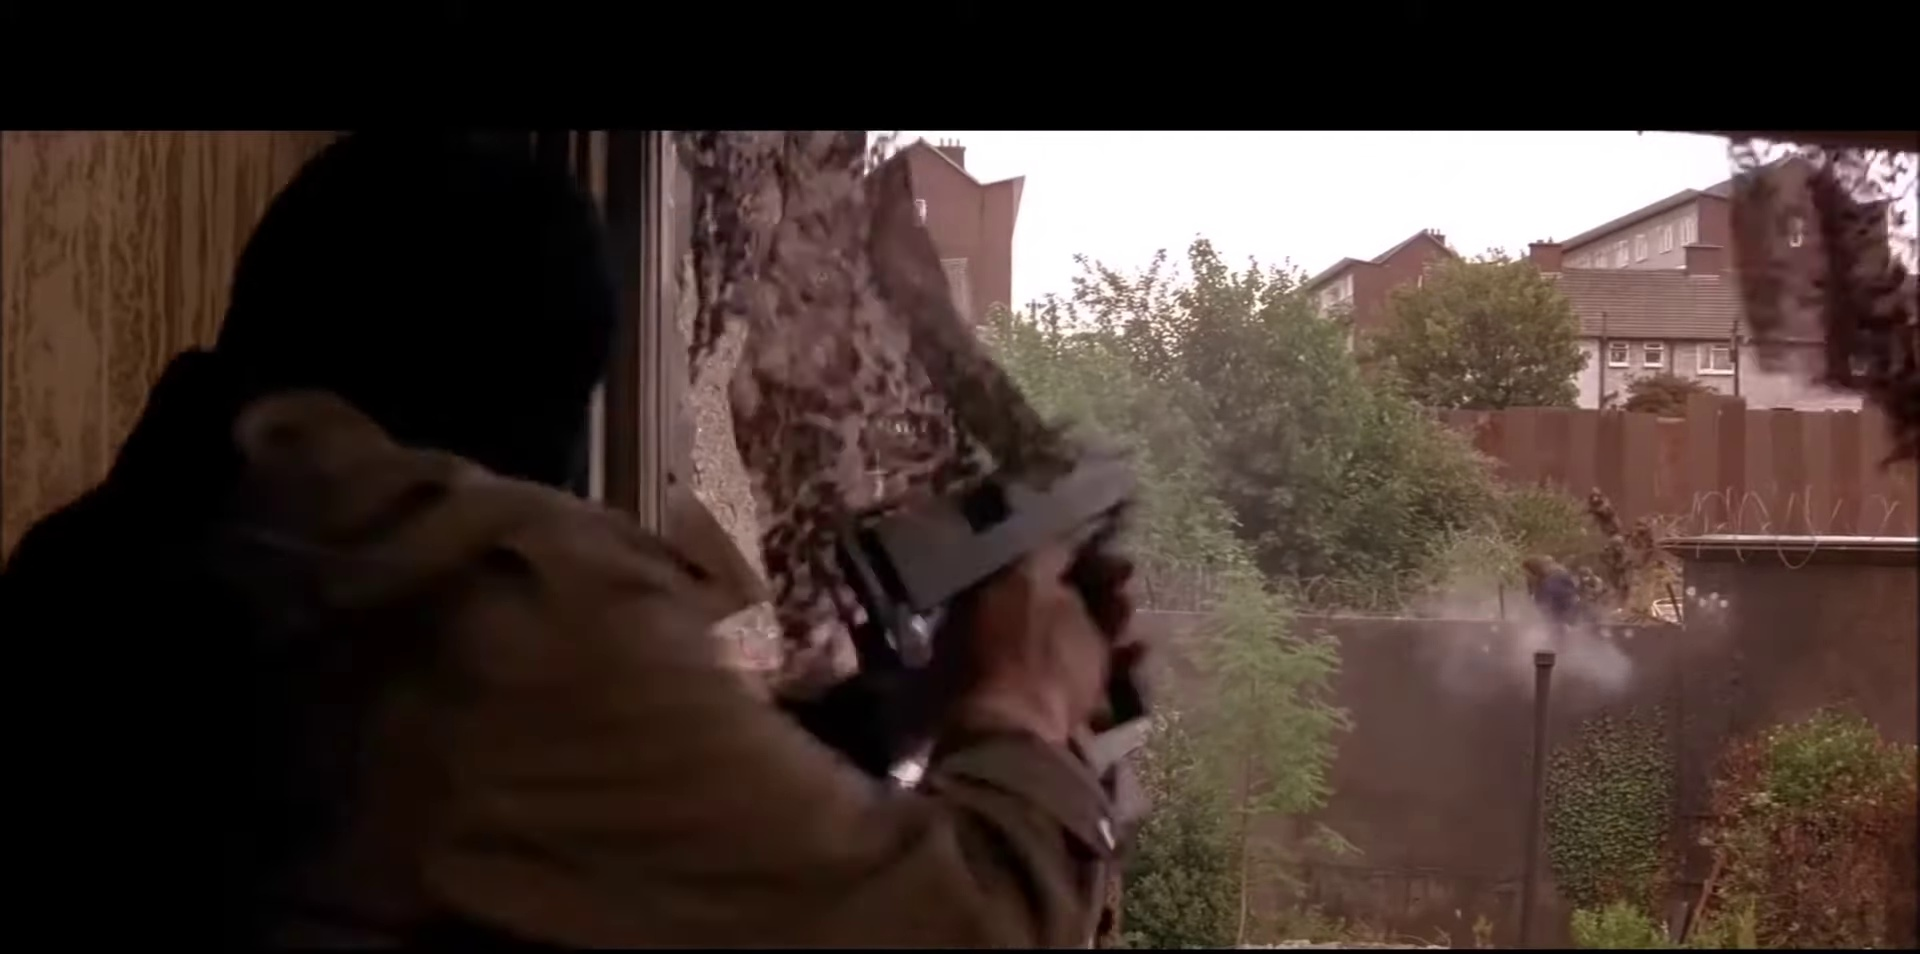gun: (801, 413, 1172, 757)
p_w_gun: (0, 129, 1179, 954)
